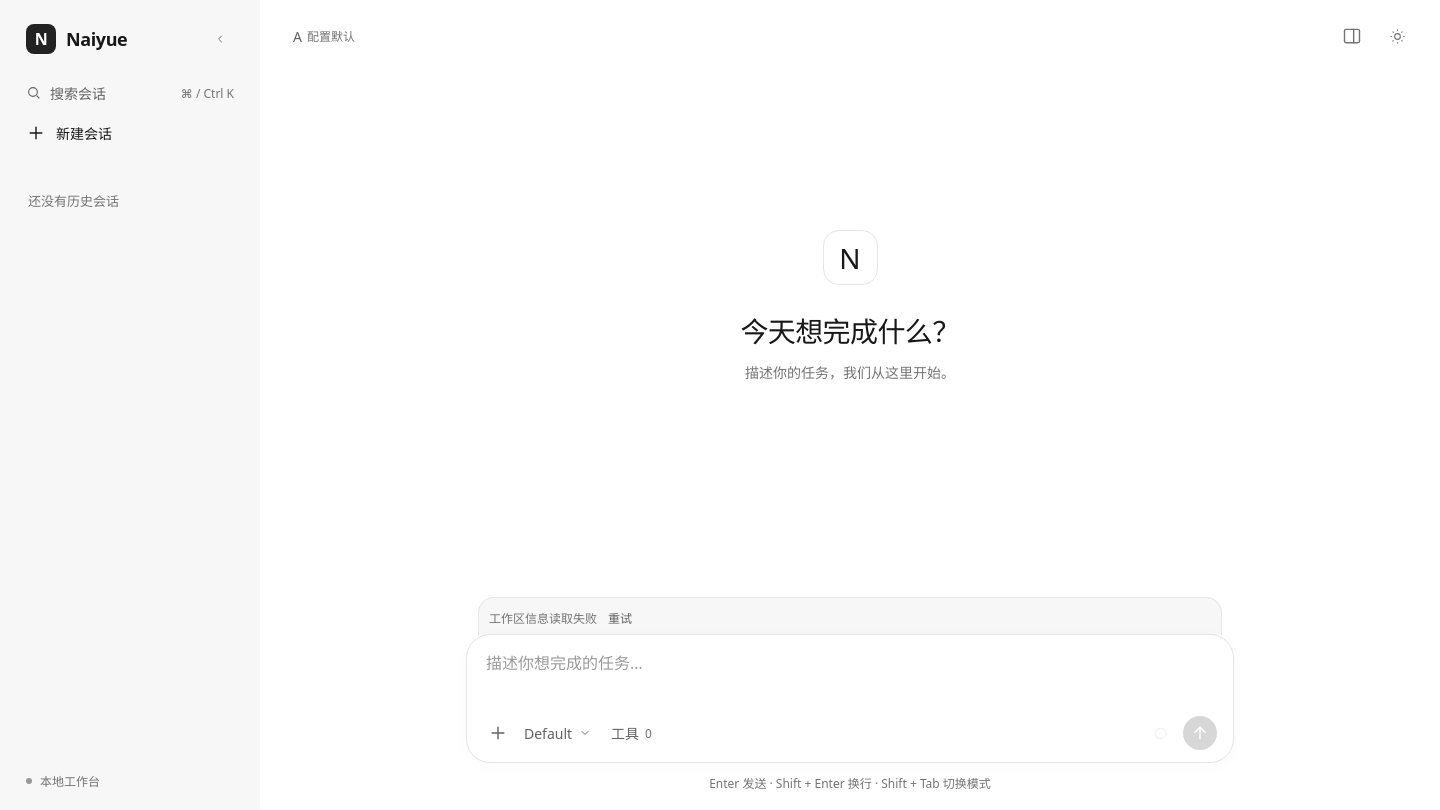
Test: shows a bounded network failure, retries only metadata and keeps sending available
Expected: the text "工作区信息读取失败" is shown, x1=489 y1=609 x2=597 y2=627
Expected: the button with aria-label "模型与推理强度：A" is shown, x1=288 y1=19 x2=360 y2=53
Type "ready to send" into the text box named "消息" at (850, 676), box x1=483 y1=650 x2=1217 y2=703
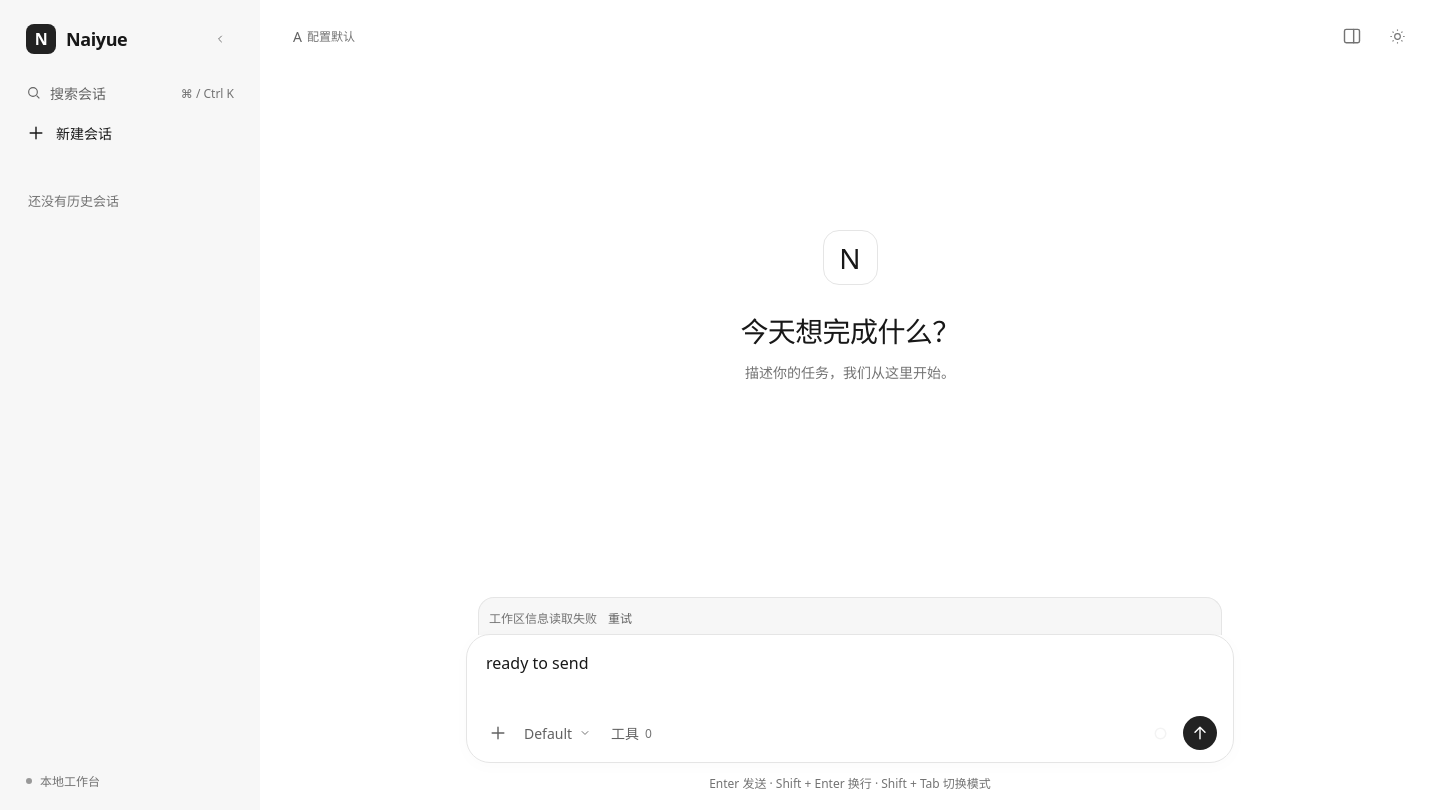
Expected: the button named "发送消息" is enabled, x1=1183 y1=716 x2=1217 y2=750
Click the button with aria-label "重试工作区信息" at (620, 618), box x1=603 y1=606 x2=637 y2=630
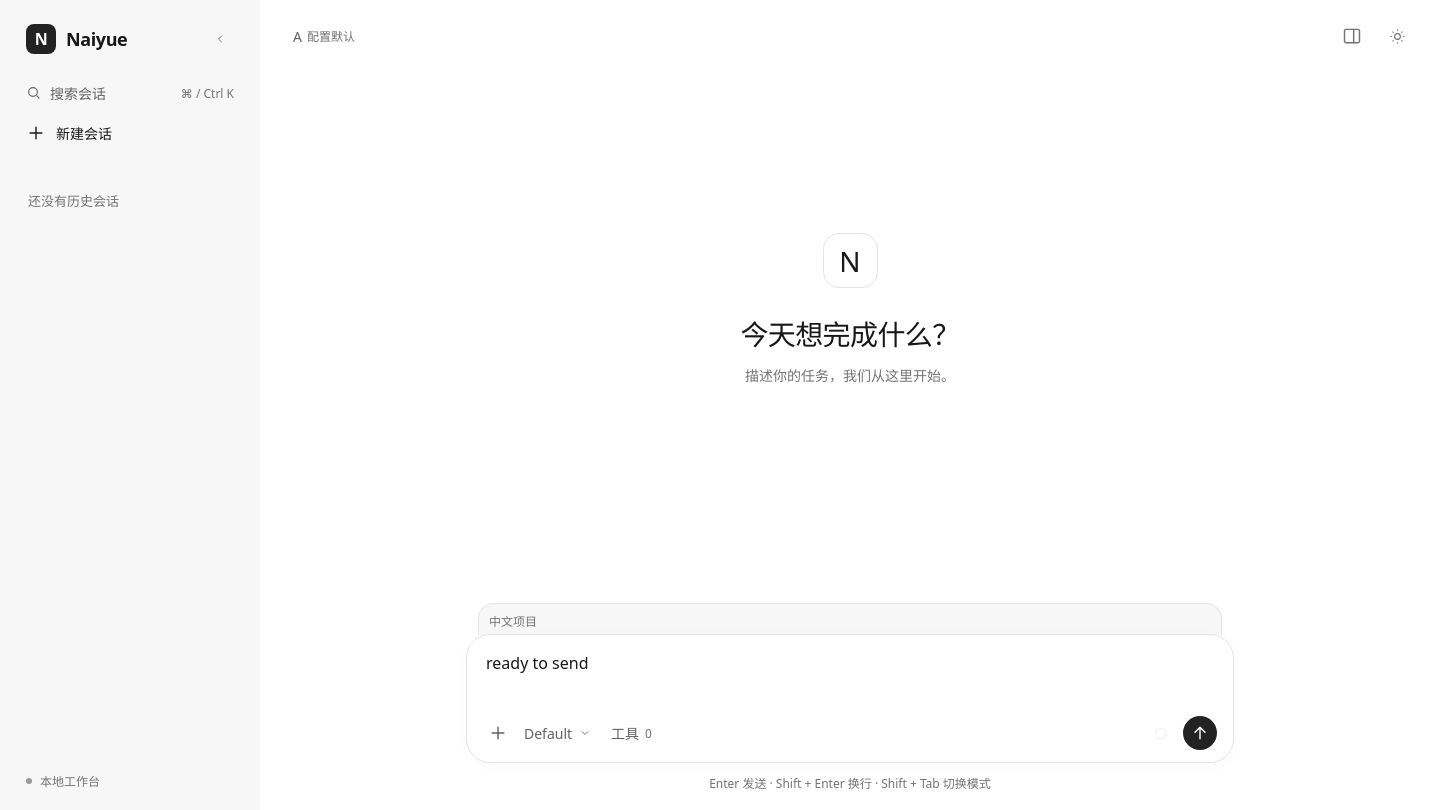
Expected: the text "中文项目" is shown, x1=489 y1=612 x2=537 y2=630
